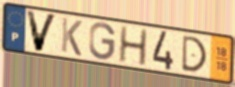4: (151, 29, 175, 72)
D: (180, 34, 209, 74)
G: (88, 22, 118, 62)
H: (117, 25, 149, 68)
K: (60, 16, 84, 58)
V: (24, 8, 59, 53)
